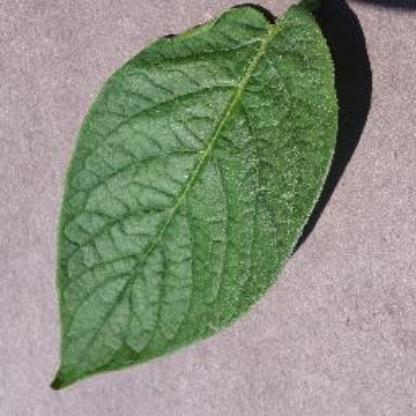Healthy-plant: (37, 4, 348, 402)
